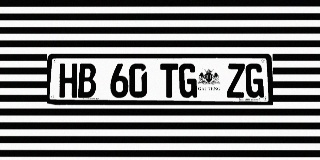0: (129, 63, 147, 98)
6: (110, 63, 128, 98)
B: (78, 63, 96, 98)
G: (245, 63, 264, 98), (179, 63, 197, 98)
H: (59, 63, 77, 98)
T: (160, 63, 178, 98)
Z: (227, 63, 245, 98)
